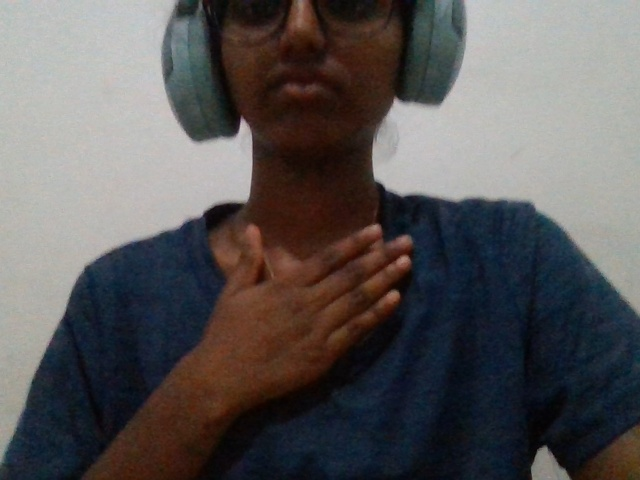Please: (132, 190, 494, 446)
